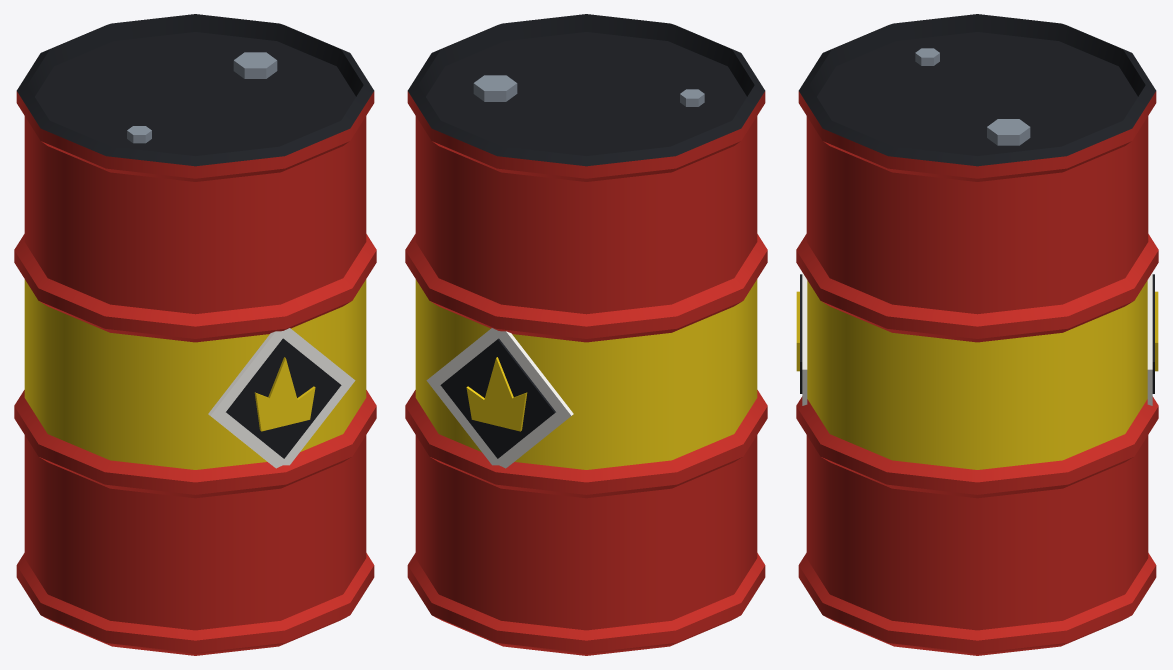
File: barrel_explosive.glb
3 views of the same model, side by side, from view 1: azimuth 30°, elevation 25°; view 2: azimuth 150°, elevation 25°; view 3: azimuth 270°, elevation 25° (orthographic).
Parts seen in each view (by area): view 1: barrel_explosive; view 2: barrel_explosive; view 3: barrel_explosive.
Part boxes in pixels (x1,y1,x2,y2): barrel_explosive: [14, 14, 376, 655]; barrel_explosive: [405, 14, 767, 655]; barrel_explosive: [796, 14, 1158, 655].
Size of the model in its own units: 0.582 by 0.886 by 0.582.
